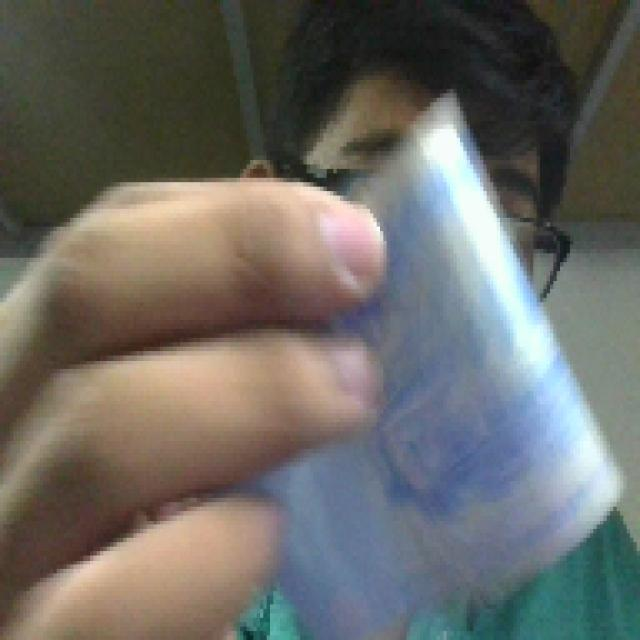20 000 VND: (246, 84, 626, 636)
